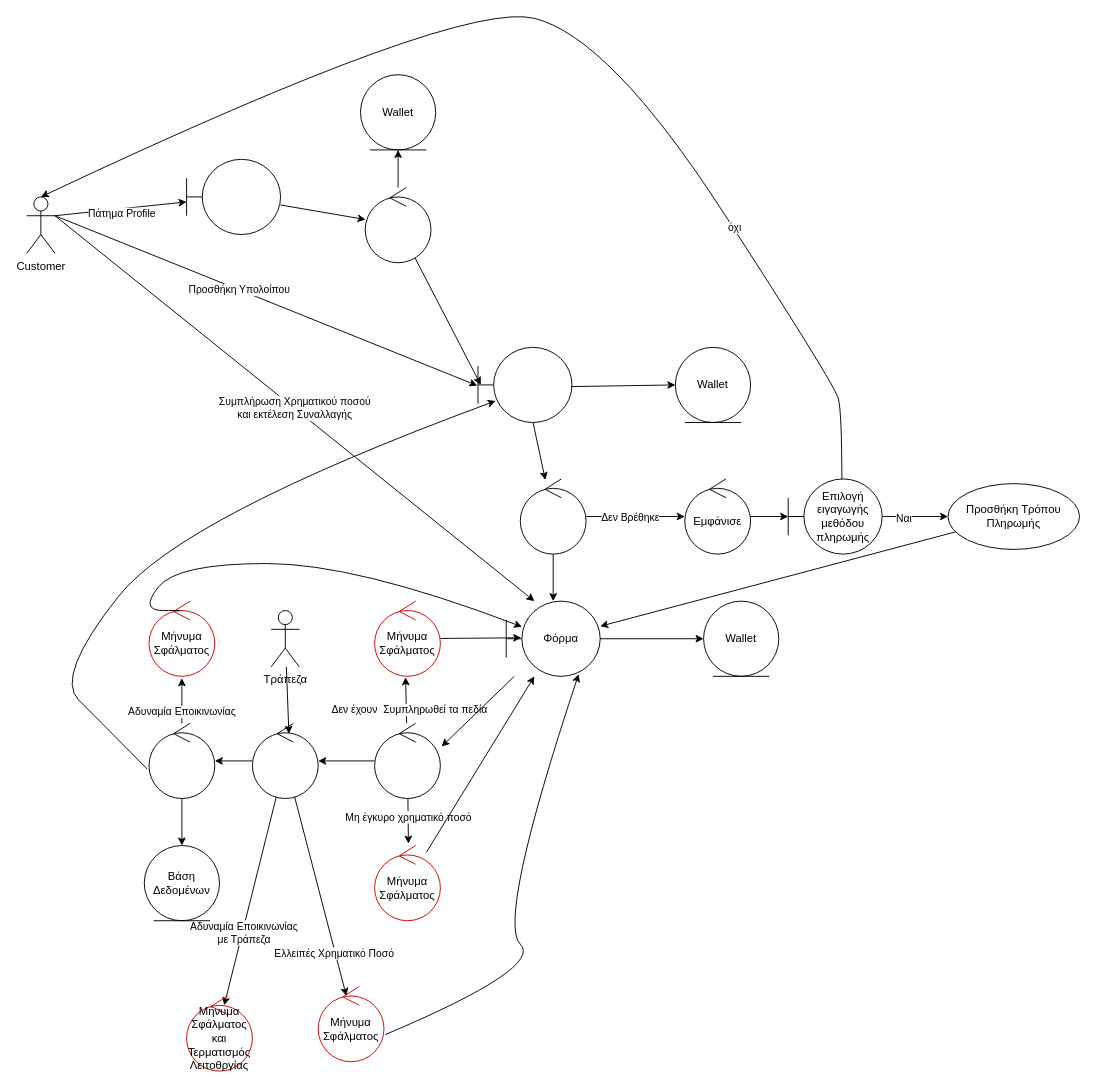
The diagram is 1096 pixels wide and 1089 high, and some of its shapes have lost their labels. The box of each missing label's shape, as (x1, y1, x2, y2) in pixels:
Έλεγχος Πεδίων: (374, 722, 440, 799)
Έλεγχος Υπάρξης Τρόπου Πληρωμής: (519, 478, 586, 554)
Αποθηκεύση Στη Βάση και στο πορτοφόλι του χρήστη: (148, 722, 215, 799)
Αρχική Οθόνη: (186, 158, 281, 235)
Εμφάνιση: (364, 187, 431, 263)
Επικοινωνία με Τραπεζικό Σύστημα: (251, 722, 318, 799)
Προφίλ: (477, 346, 572, 423)
